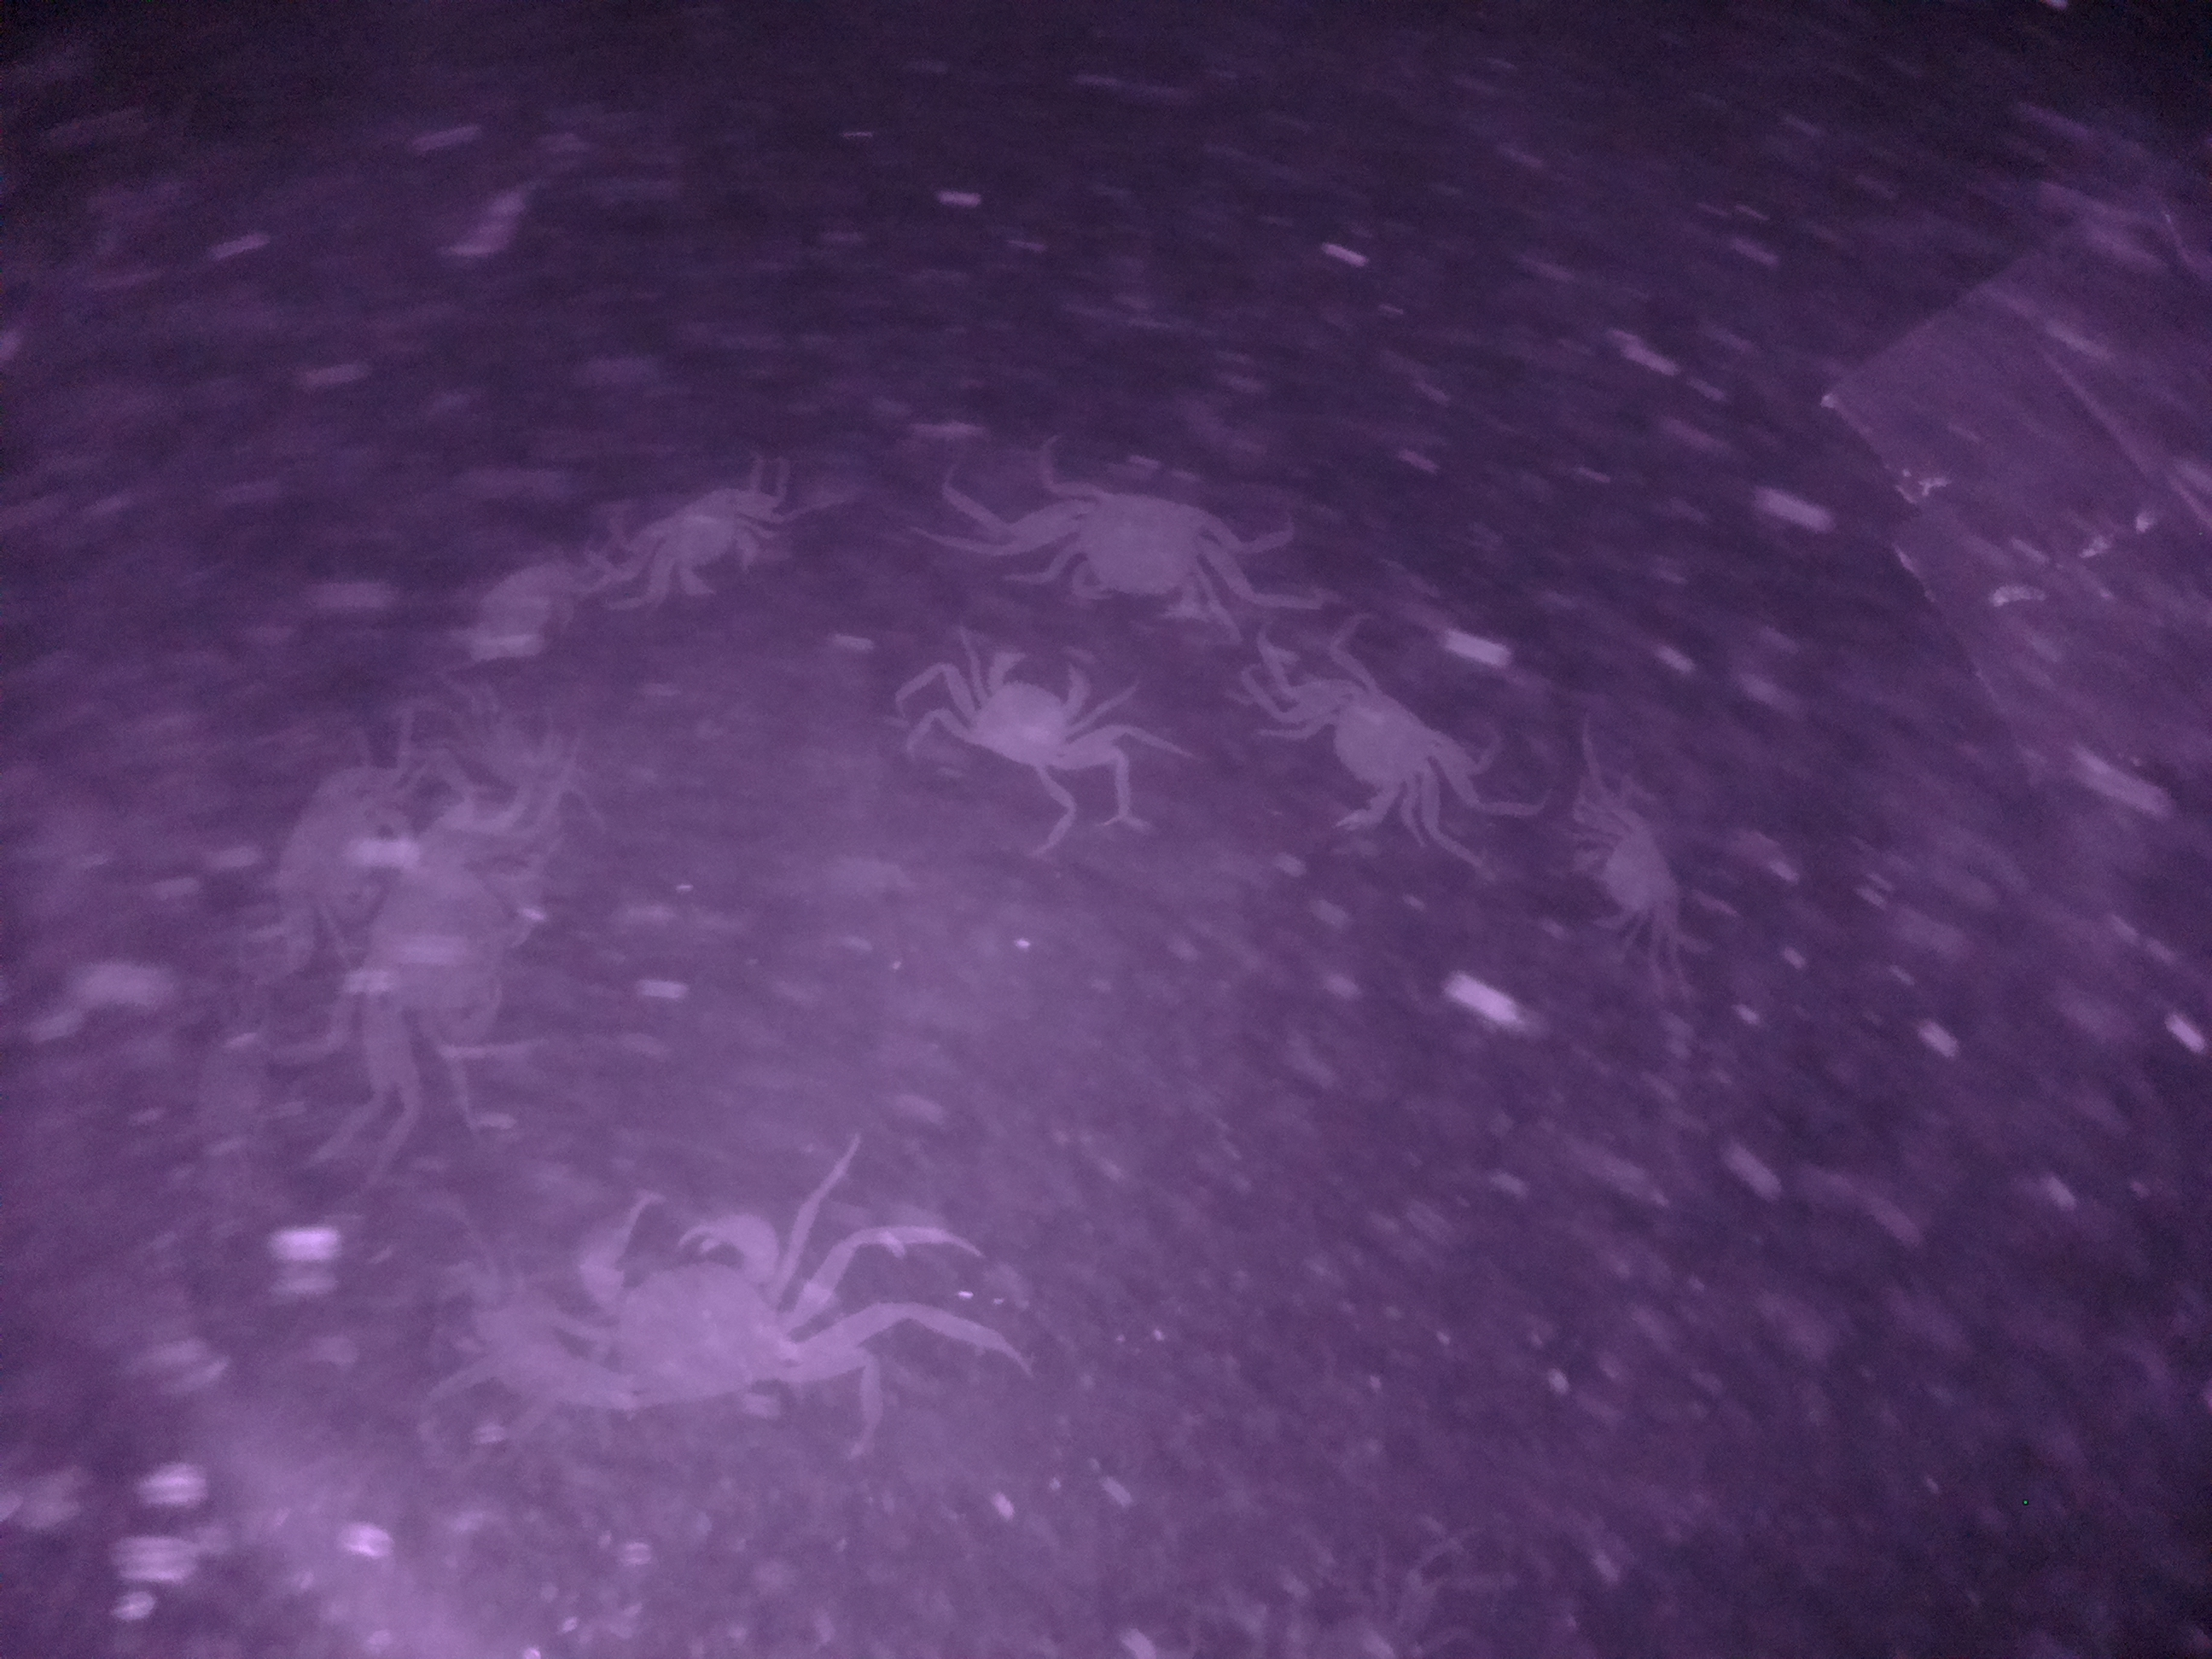Crab: (1294, 626, 1472, 861), (1007, 467, 1233, 640), (920, 617, 1129, 800), (631, 458, 786, 612)
